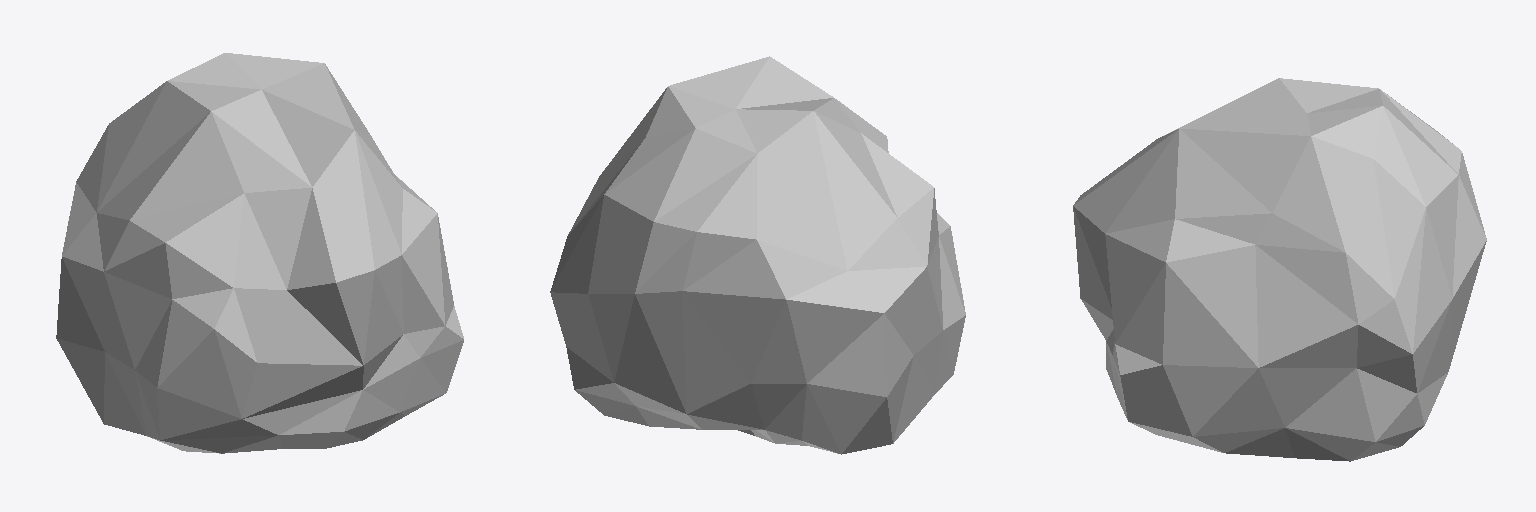
File: rock.obj
The picture shows the model from 3 angles: view 1: azimuth 30°, elevation 25°; view 2: azimuth 150°, elevation 25°; view 3: azimuth 270°, elevation 25°; orthographic projection.
Visible parts, largest first — view 1: Cube.001; view 2: Cube.001; view 3: Cube.001.
Part boxes in pixels (left/top/right/bottom): Cube.001: left=56, top=53, right=463, bottom=453; Cube.001: left=550, top=56, right=965, bottom=454; Cube.001: left=1073, top=78, right=1486, bottom=461.
Bounding box in the file's own units: 3.23 × 3.11 × 3.63.